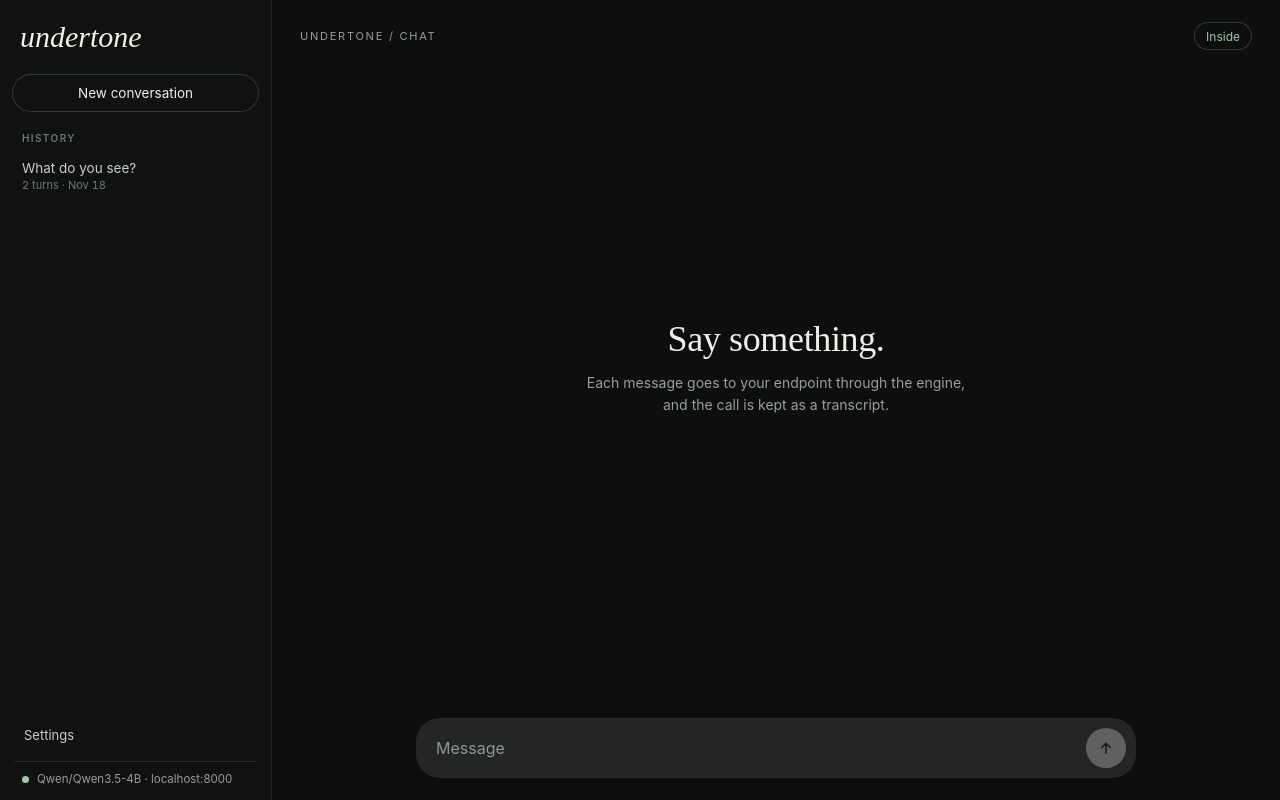
Inside the model › lays the conversation out turn by turn at its foot, and a turn pressed there shows that reply
Click the button "What do you see? 2 turns · Nov 18" at (136, 176), box [12, 152, 259, 200]
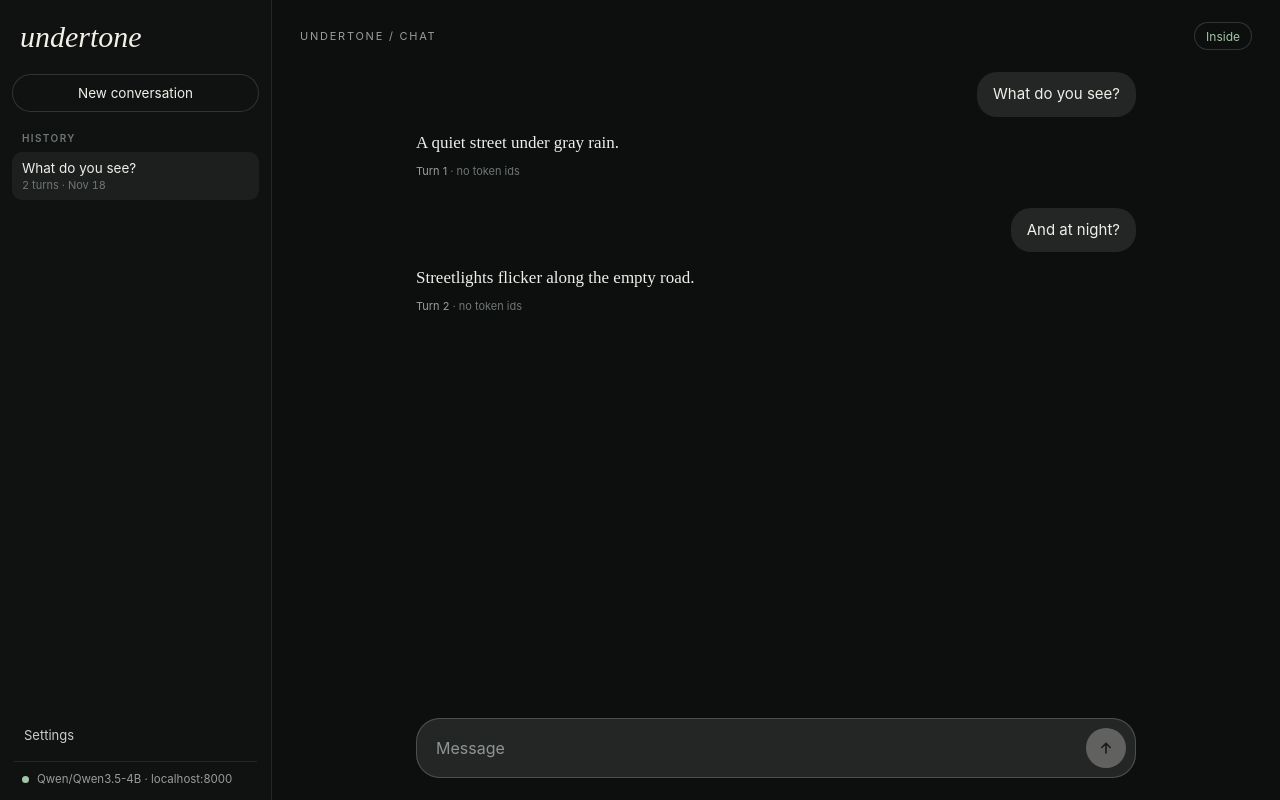
Expected: the text "And at night?" is shown, [1011, 208, 1136, 252]
Click the button "Inside" at (1223, 36), box [1194, 22, 1252, 50]
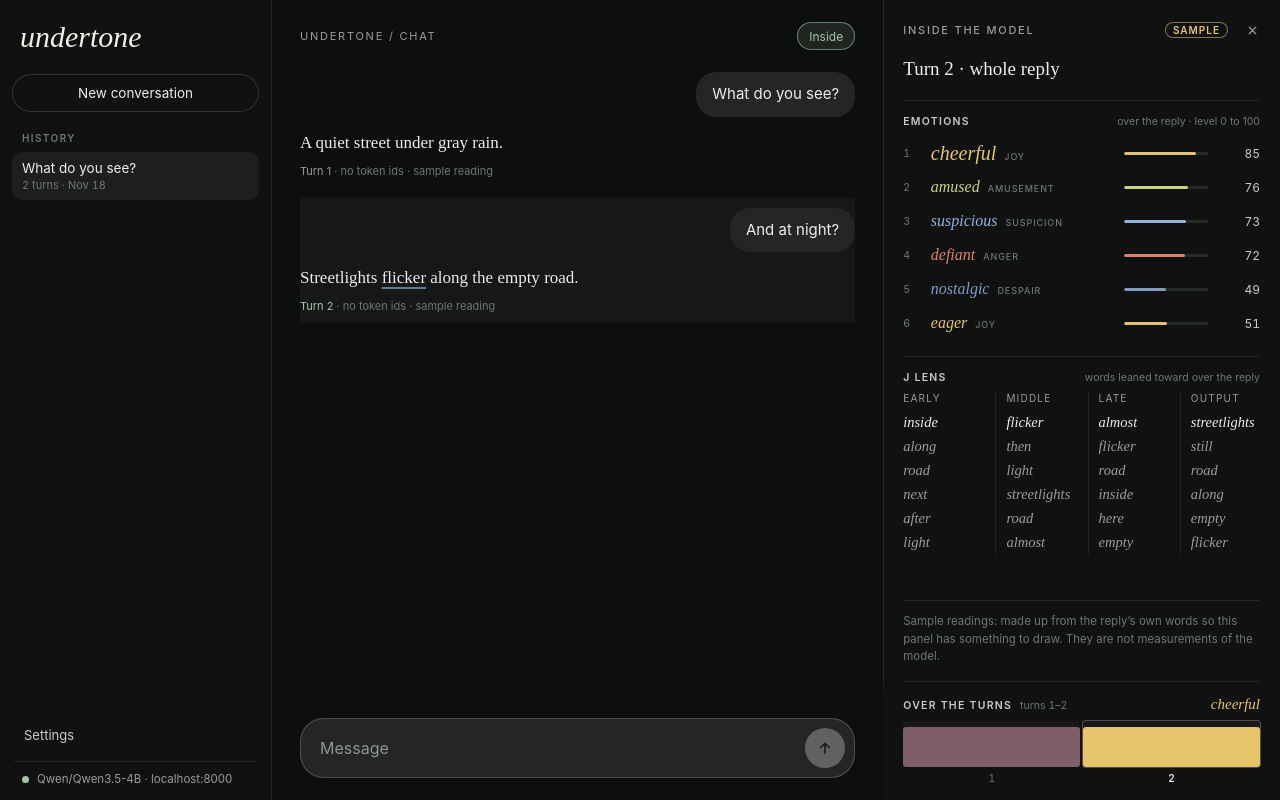
Expected: the element "Over the turns" shows "cheerful", [1211, 696, 1260, 712]
Expected: the element "Inside the model" shows "Turn 2 · whole reply", [883, 0, 1279, 799]
Click the button named "Turn 1: grateful, 85" at (992, 744), box [903, 721, 1080, 767]
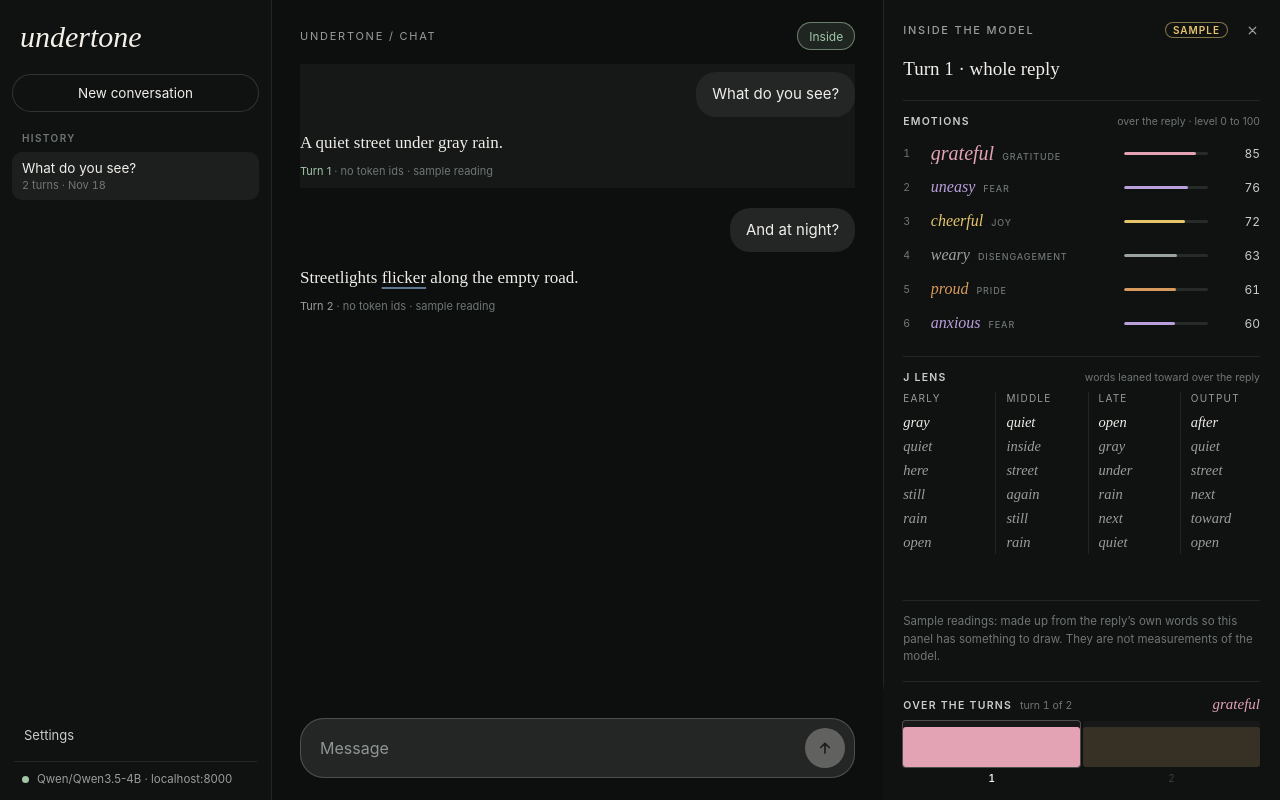
Expected: the element "Inside the model" shows "Turn 1 · whole reply", [883, 0, 1279, 799]
Expected: the element "Over the turns" shows "grateful", [1212, 696, 1260, 712]
